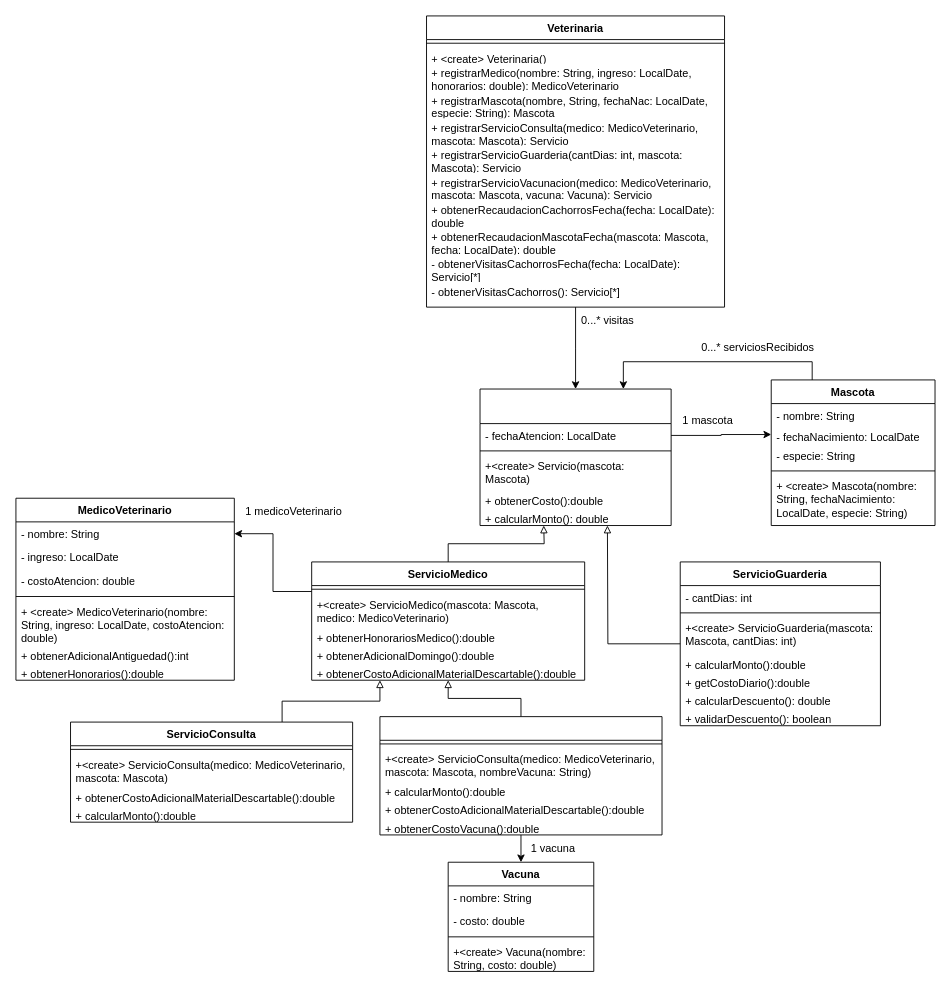
Some shapes in this 951 by 990 pixel diagram are drawn without their labels. Each missing label, with the box of its shape:
<abstract> Servicio: (479, 388, 671, 526)
ServicioVacunacion: (379, 716, 662, 835)
